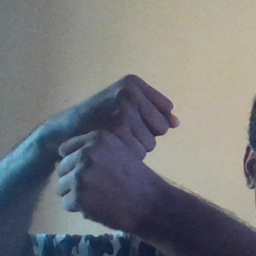G: (65, 67, 179, 216)
